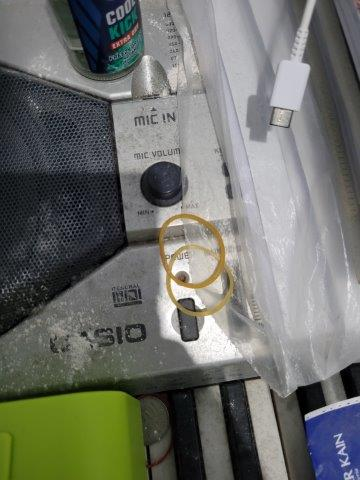karet: (166, 244, 235, 317), (158, 213, 225, 288)
